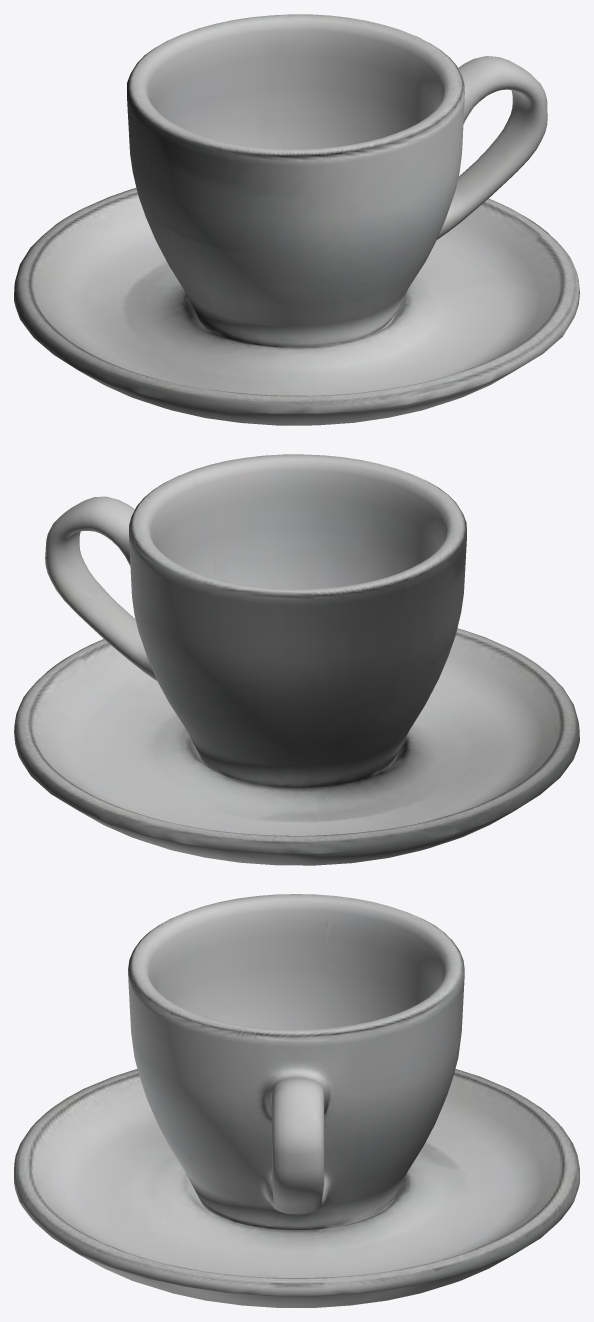
The model's file is coffee-cup.glb.
3 renders of one model, top to bottom at view 1: azimuth 30°, elevation 25°; view 2: azimuth 150°, elevation 25°; view 3: azimuth 270°, elevation 25°, orthographic.
Visible parts, largest first — view 1: mesh_rep_0_ori_repair_quad_0; view 2: mesh_rep_0_ori_repair_quad_0; view 3: mesh_rep_0_ori_repair_quad_0.
Boxes of the visible parts, <box> form: mesh_rep_0_ori_repair_quad_0: <box>14,14,579,425</box>; mesh_rep_0_ori_repair_quad_0: <box>14,454,579,865</box>; mesh_rep_0_ori_repair_quad_0: <box>14,894,579,1307</box>.
Size of the model in its own units: 0.1434 by 0.0773 by 0.1434.
Materials: 1 (1 with a texture image).
